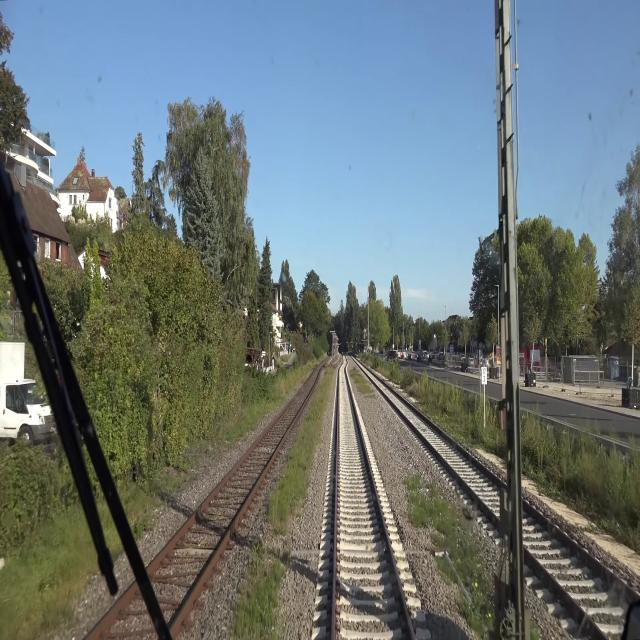rail-track: (149, 369, 318, 620), (335, 366, 410, 639), (378, 382, 501, 517), (522, 504, 640, 639)
